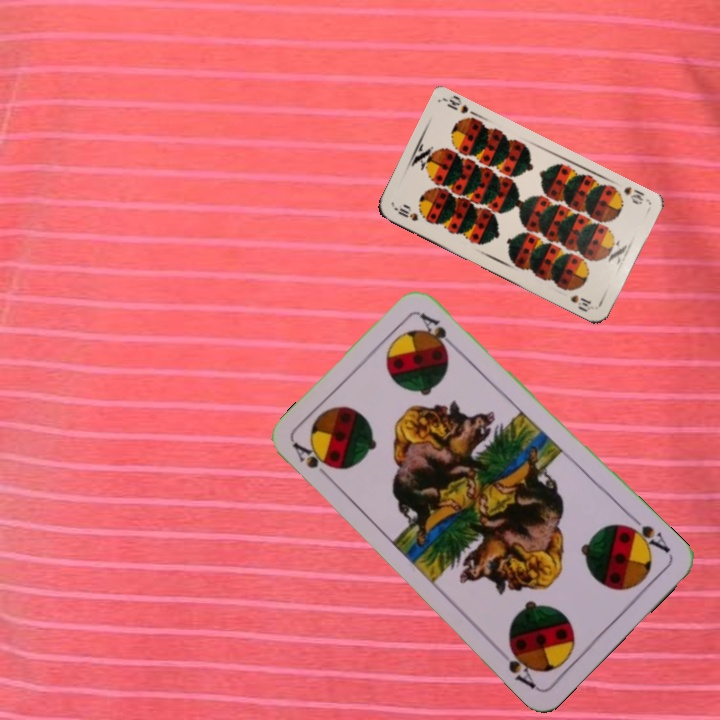S10: (619, 183, 647, 207), (390, 203, 421, 224)
SA: (619, 511, 673, 556), (289, 438, 336, 485)
